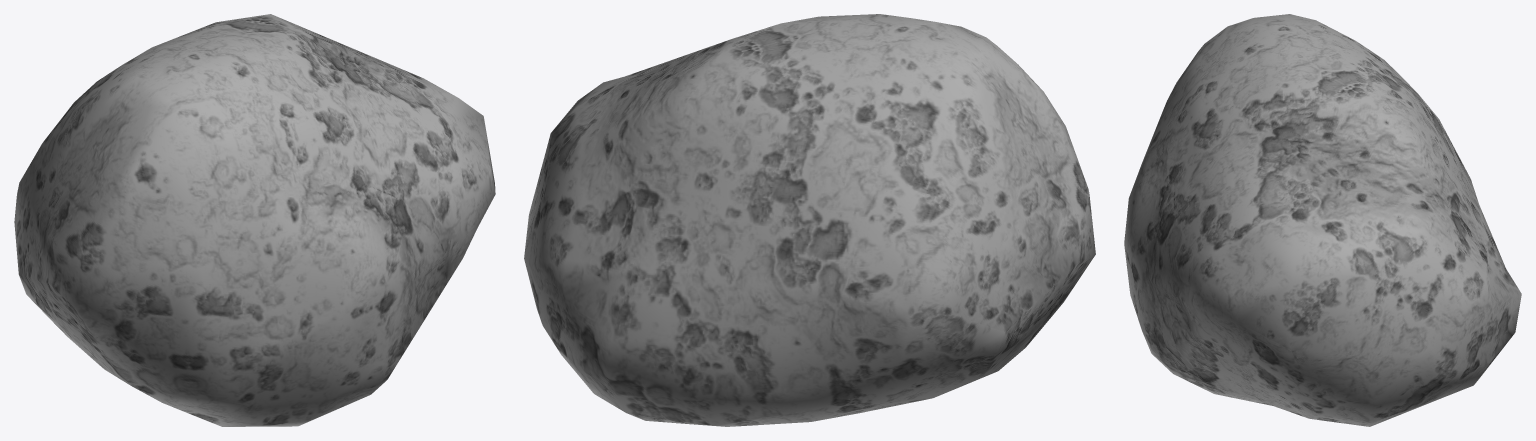
The model's file is Asteroid.fbx.
The picture shows the model from 3 angles, left to right: view 1: azimuth 30°, elevation 25°; view 2: azimuth 150°, elevation 25°; view 3: azimuth 270°, elevation 25°; orthographic projection. The views are drawn at different scales.
Parts seen in each view (by area): view 1: Asteroid; view 2: Asteroid; view 3: Asteroid.
Boxes of the visible parts, x1=… form: Asteroid: x1=14, y1=14, x2=495, y2=426; Asteroid: x1=524, y1=14, x2=1095, y2=426; Asteroid: x1=1124, y1=14, x2=1521, y2=426.
Bounding box in the file's own units: 3.57 × 2.68 × 2.95.
1 material, 1 textured.
